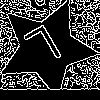L: (21, 23, 70, 77)
